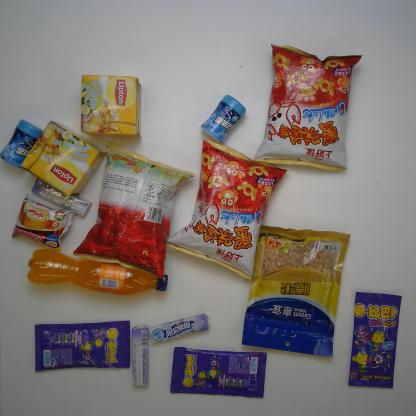Candy: (347, 290, 403, 390), (33, 320, 131, 374), (169, 345, 267, 399), (30, 176, 93, 218), (146, 312, 210, 346), (130, 323, 151, 388)
Dessert: (10, 192, 77, 254)
Dried Fruit: (240, 224, 352, 359)
Drink: (26, 248, 169, 296)
Gum: (199, 93, 247, 146), (0, 118, 44, 170)
Instant Drink: (21, 119, 106, 197), (78, 72, 143, 138)
Puffed Food: (71, 139, 197, 284), (164, 136, 288, 282), (252, 40, 364, 172)
